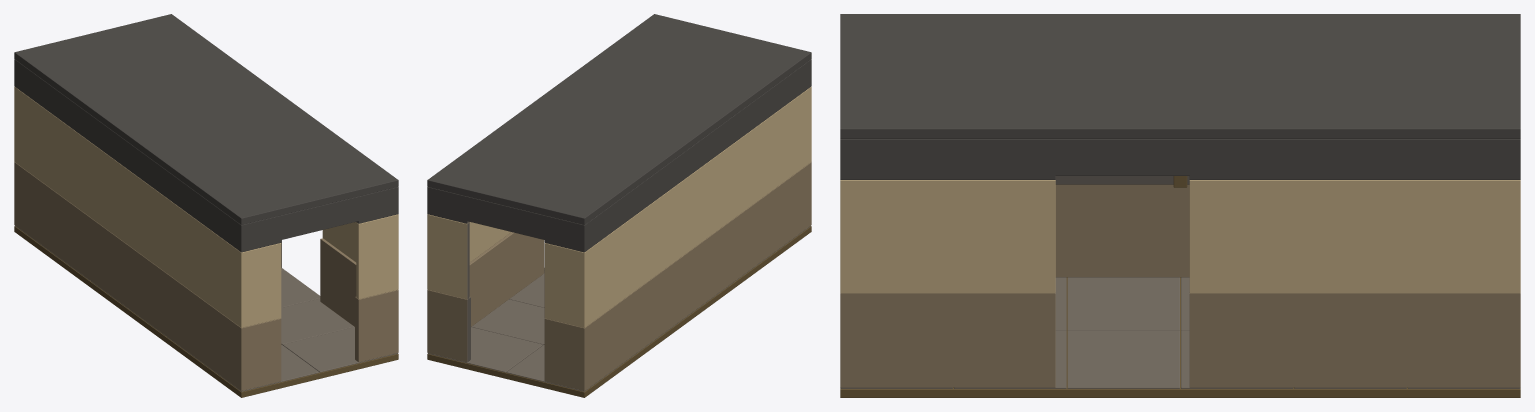
File: gen-chase.glb
3 renders of one model, left to right at view 1: azimuth 30°, elevation 25°; view 2: azimuth 150°, elevation 25°; view 3: azimuth 270°, elevation 25°, orthographic. The views are drawn at different scales.
Parts seen in each view (by area): view 1: THE CHASE; view 2: THE CHASE; view 3: THE CHASE.
Part boxes in pixels (x1,y1,x2,y2): THE CHASE: (14, 14, 398, 397); THE CHASE: (427, 14, 811, 397); THE CHASE: (840, 14, 1520, 397).
Bounding box in the file's own units: 2.4 × 2.62 × 6.
